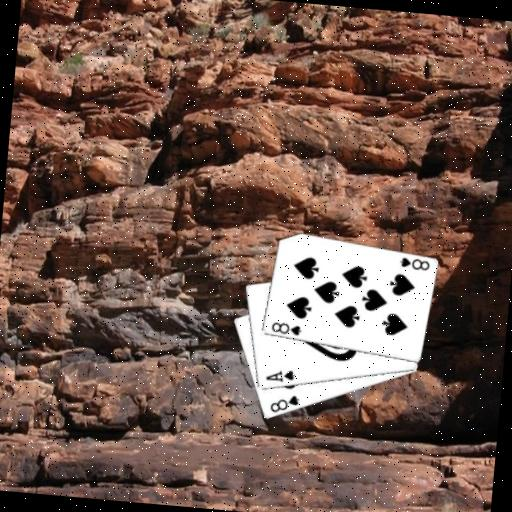8S: (267, 391, 301, 417), (268, 319, 303, 338), (397, 255, 432, 273)
AS: (262, 365, 297, 385)
